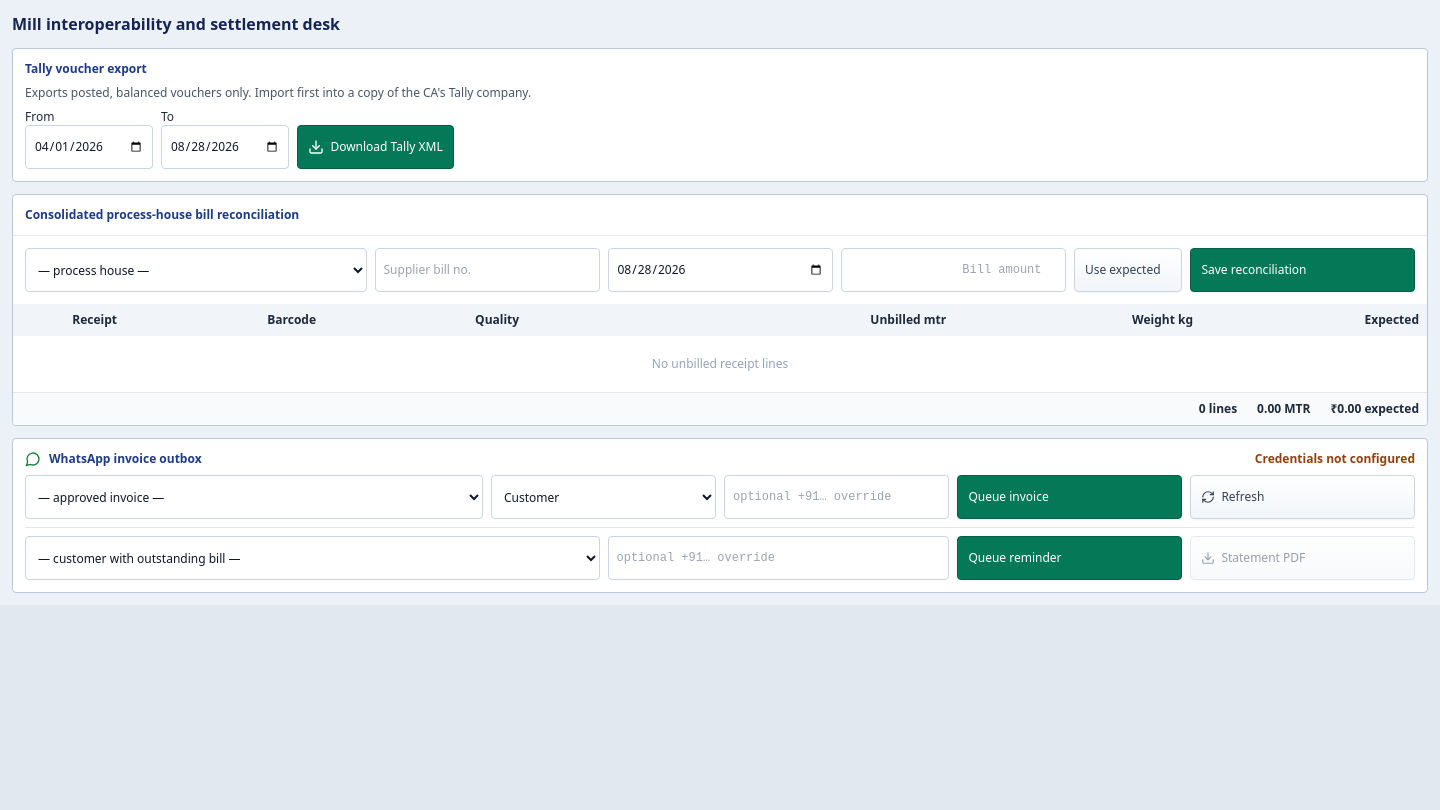
MillIntegrationView messaging desk › queues a broker copy of an approved invoice explicitly
Step 1. Select "NKT/26-27/1 · Supreme Textiles · ₹10,500.00" in the dropdown named "Invoice to message" → coordinates (254, 497), box x1=25 y1=475 x2=483 y2=519
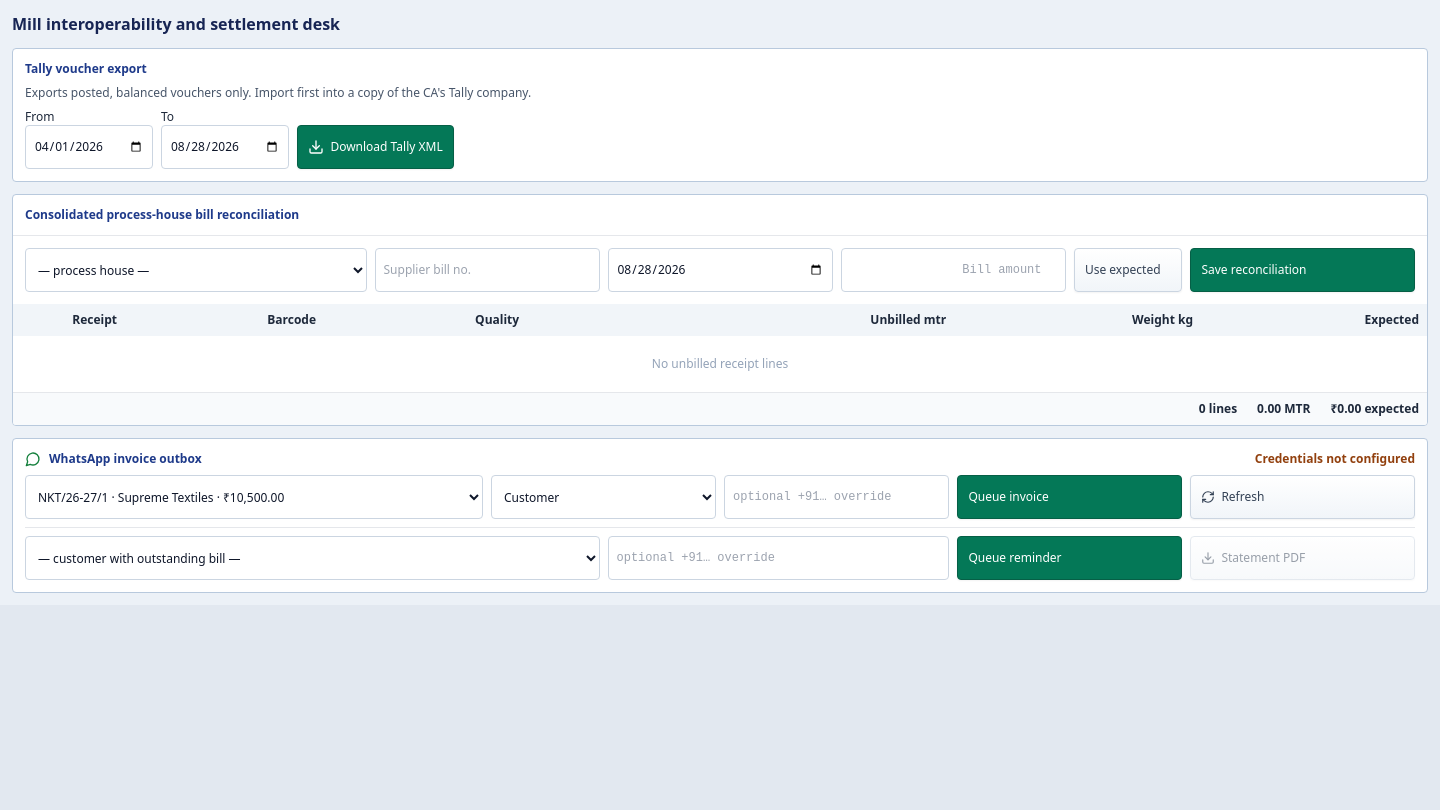
Step 2. Select "Broker" in the dropdown named "Invoice recipient" → coordinates (604, 497), box x1=491 y1=475 x2=716 y2=519
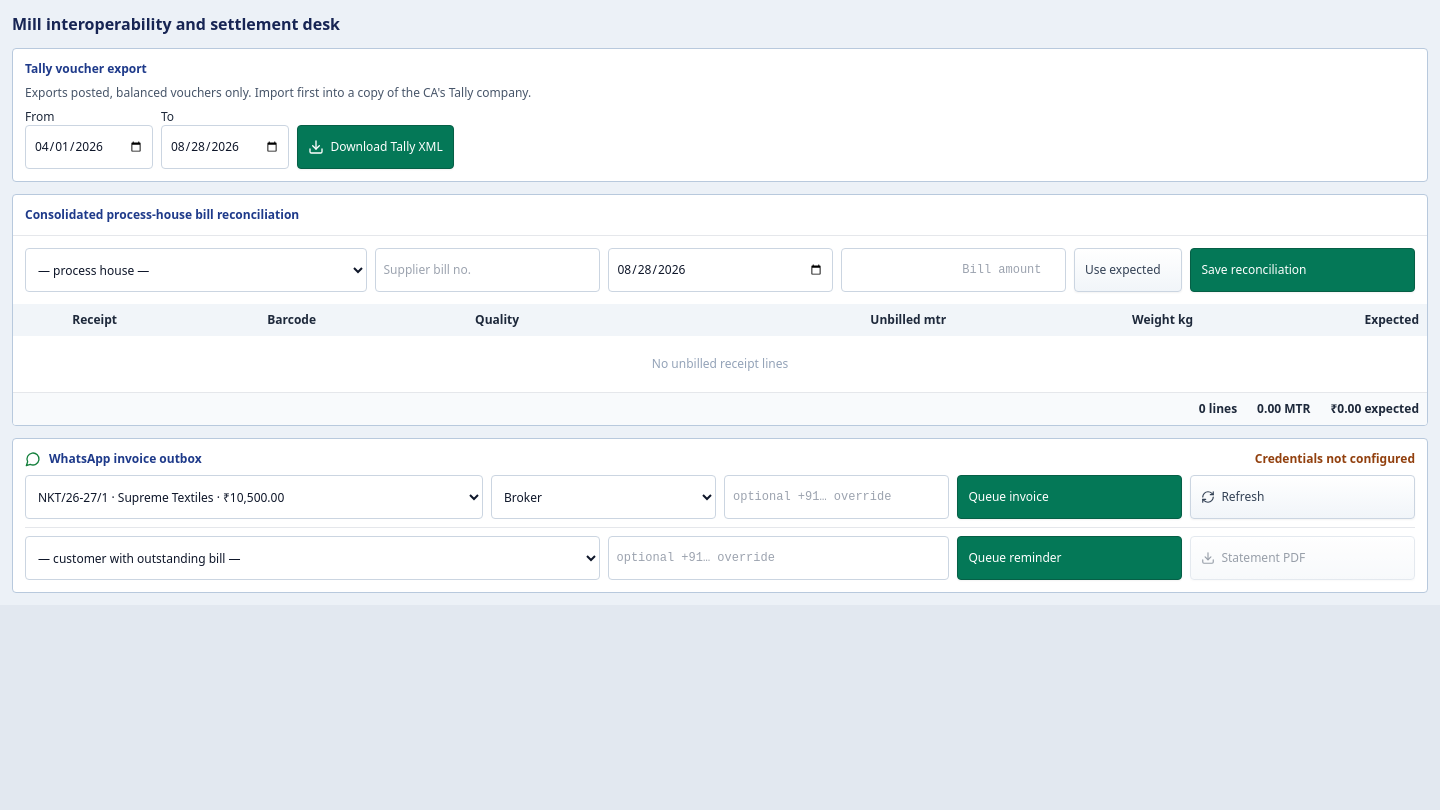
Step 3. Click the button "Queue invoice" → coordinates (1070, 497), box x1=957 y1=475 x2=1182 y2=519
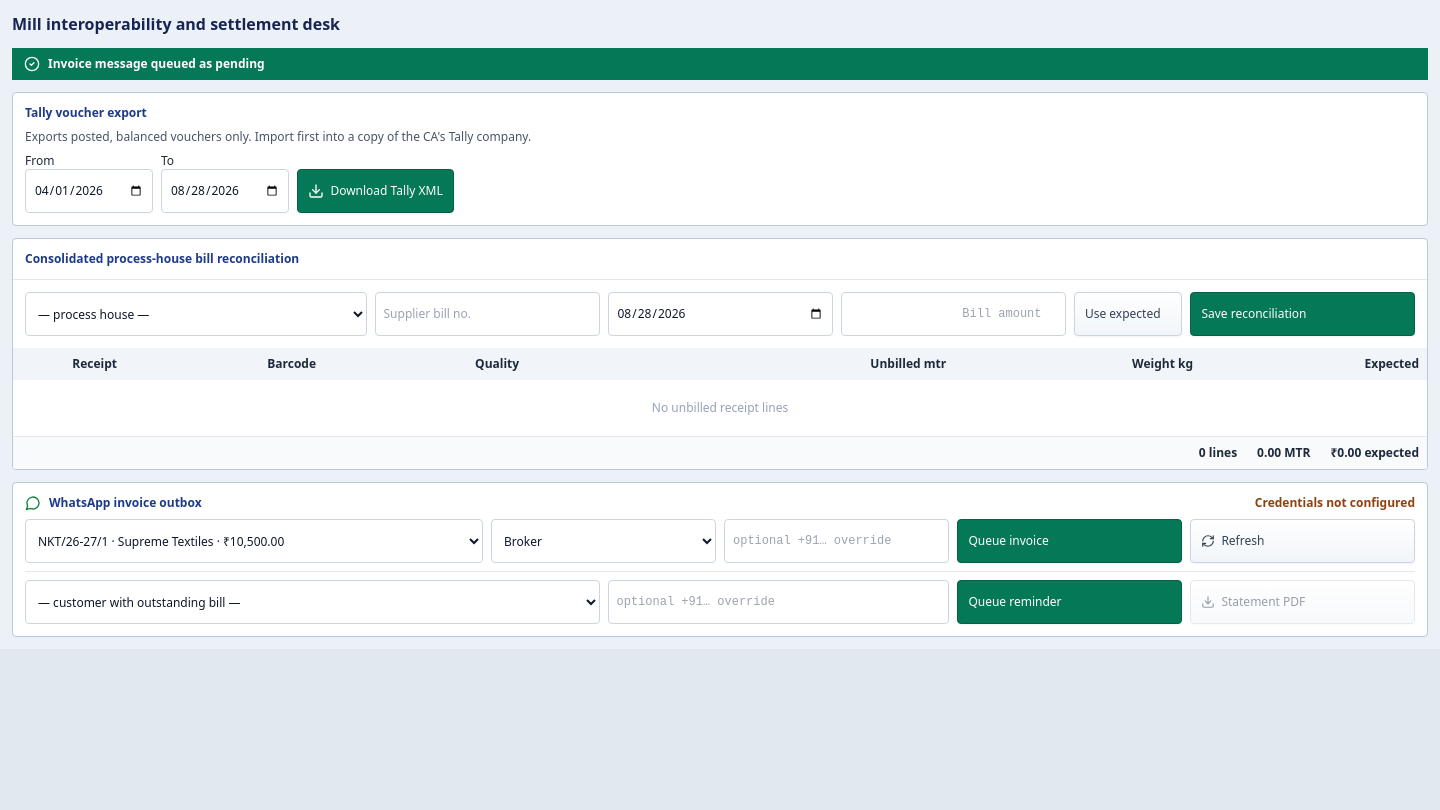
Expected: the text "Invoice message queued as pending" is shown, x1=12 y1=48 x2=1428 y2=80
